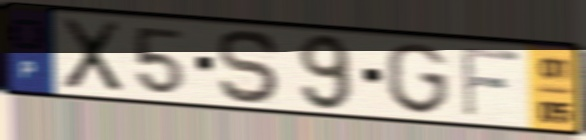5: (130, 26, 189, 96)
9: (294, 32, 357, 113)
F: (458, 45, 524, 121)
G: (382, 41, 452, 118)
S: (215, 27, 285, 107)
X: (57, 15, 126, 96)
